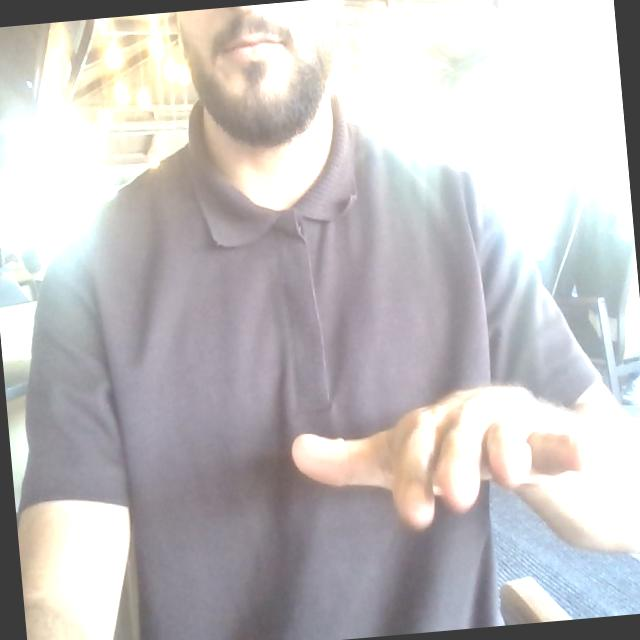Hand: (292, 387, 586, 528)
